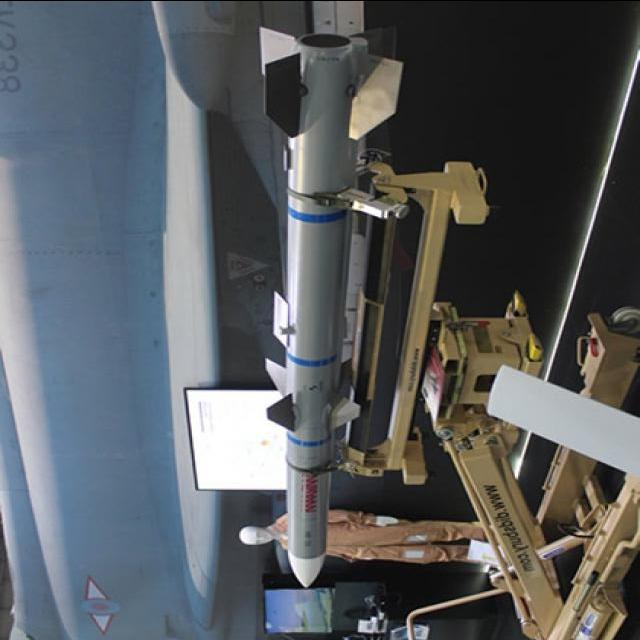missile: (272, 0, 364, 598)
